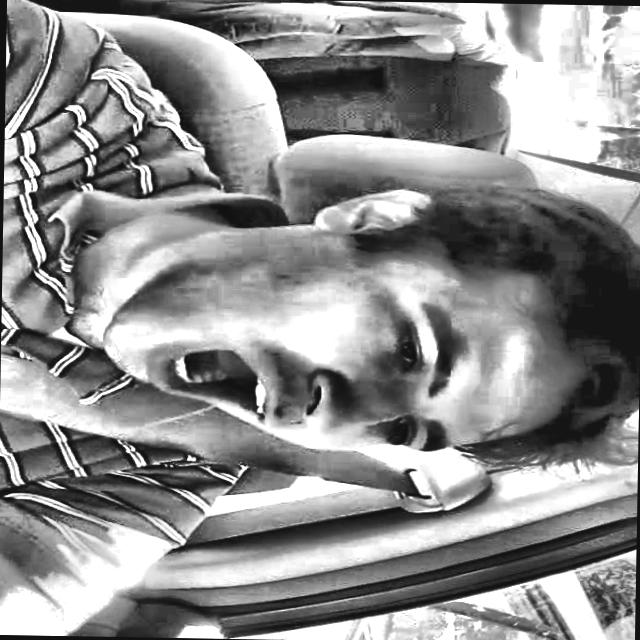open_eyes: (372, 310, 428, 379)
open_mouth: (133, 325, 286, 437)
